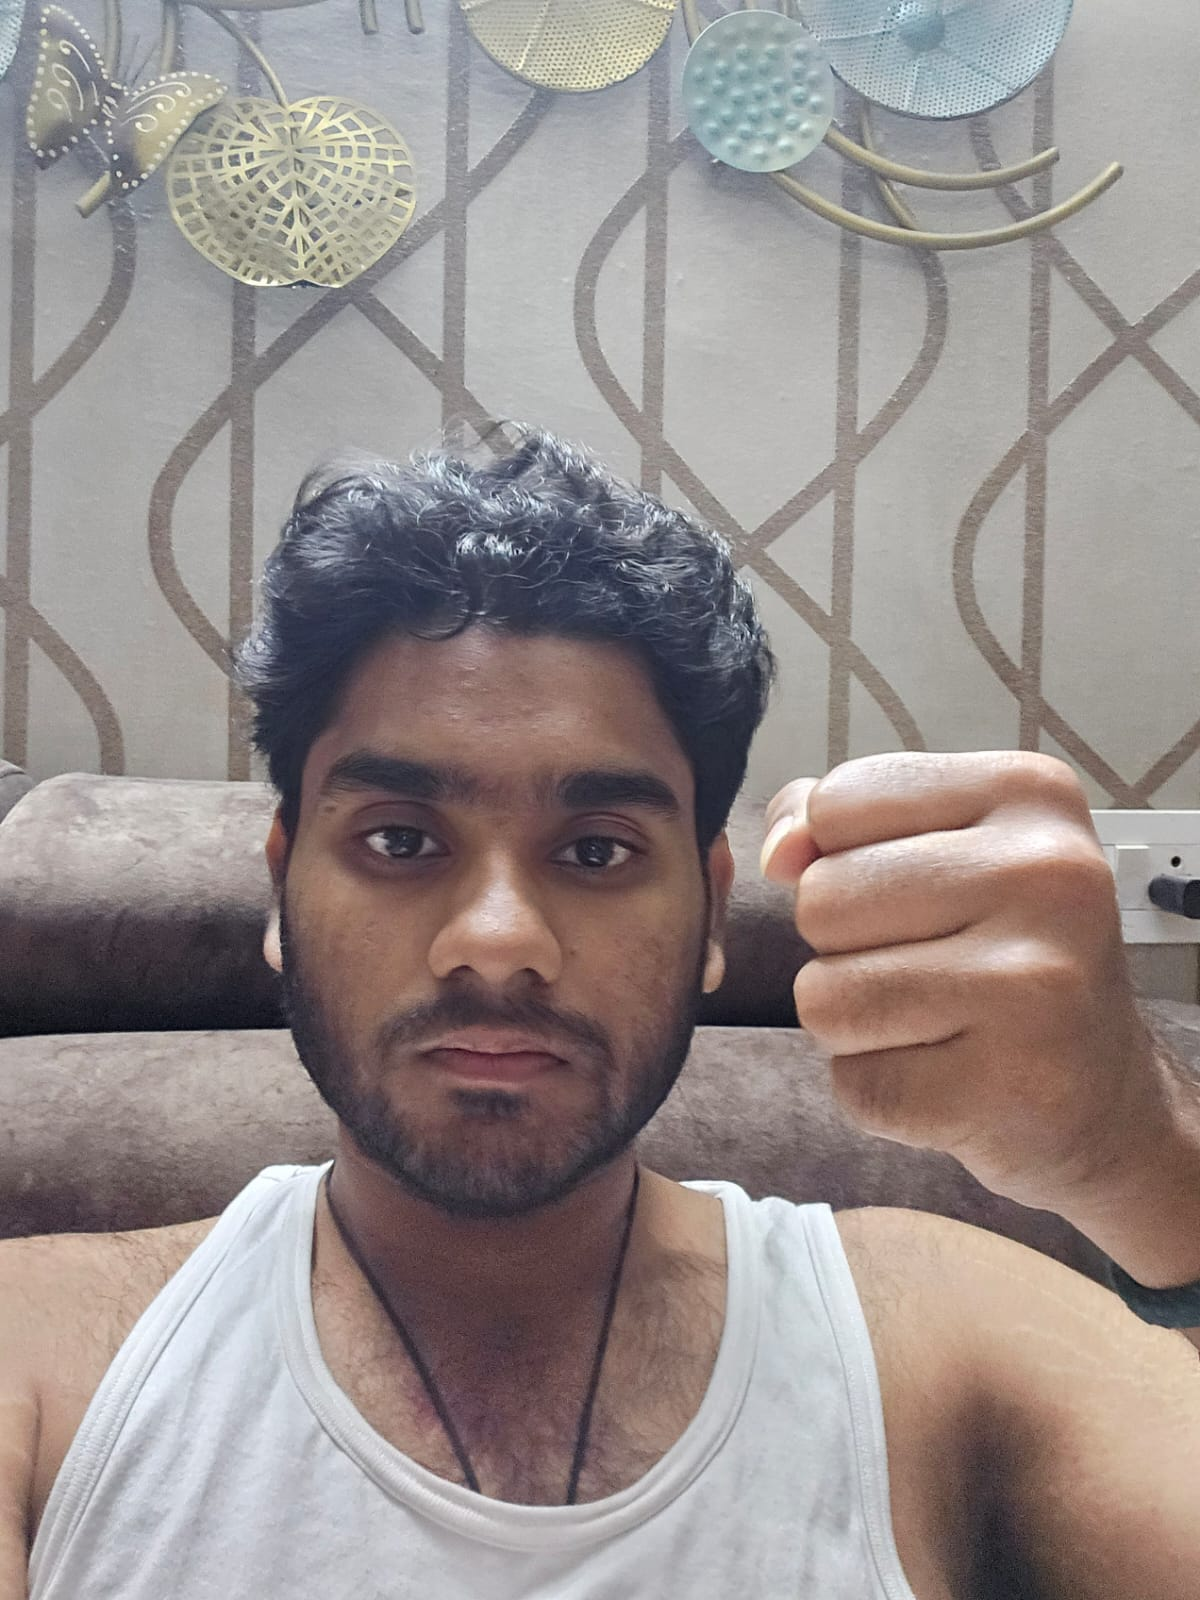yes: (761, 751, 1142, 1212)
